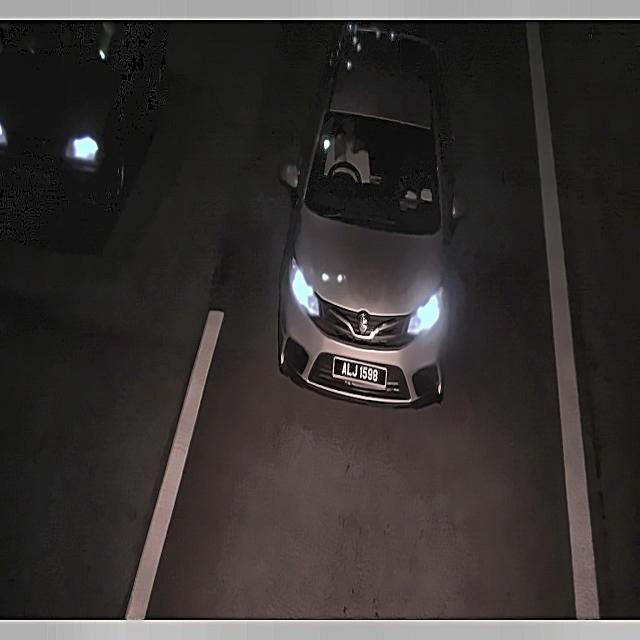car: (324, 357, 395, 387)
